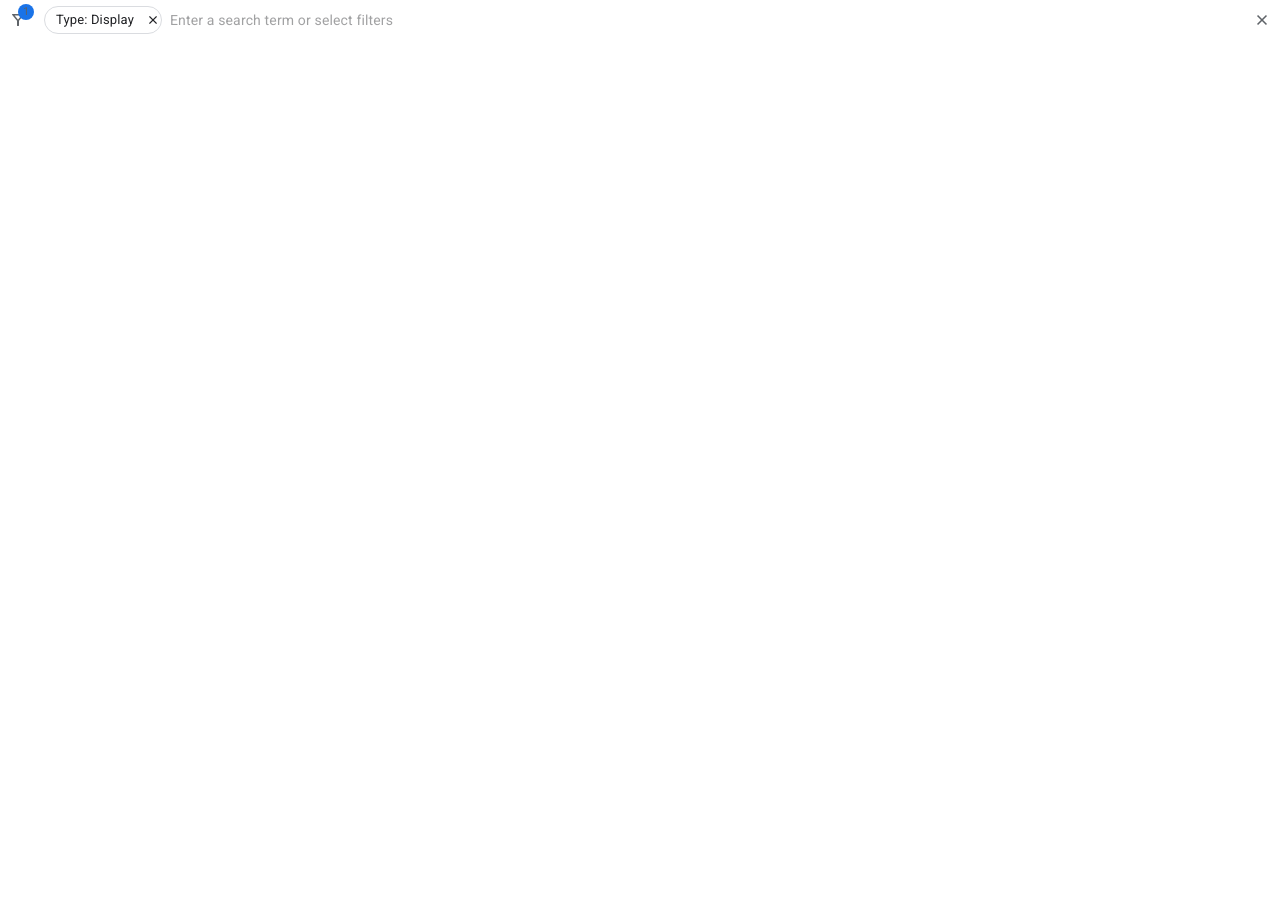
it: DvFilterBar › single-select editor uses radios
The image size is (1280, 900).
Click the button "Type: Display" at (103, 20), box x1=44 y1=6 x2=162 y2=34
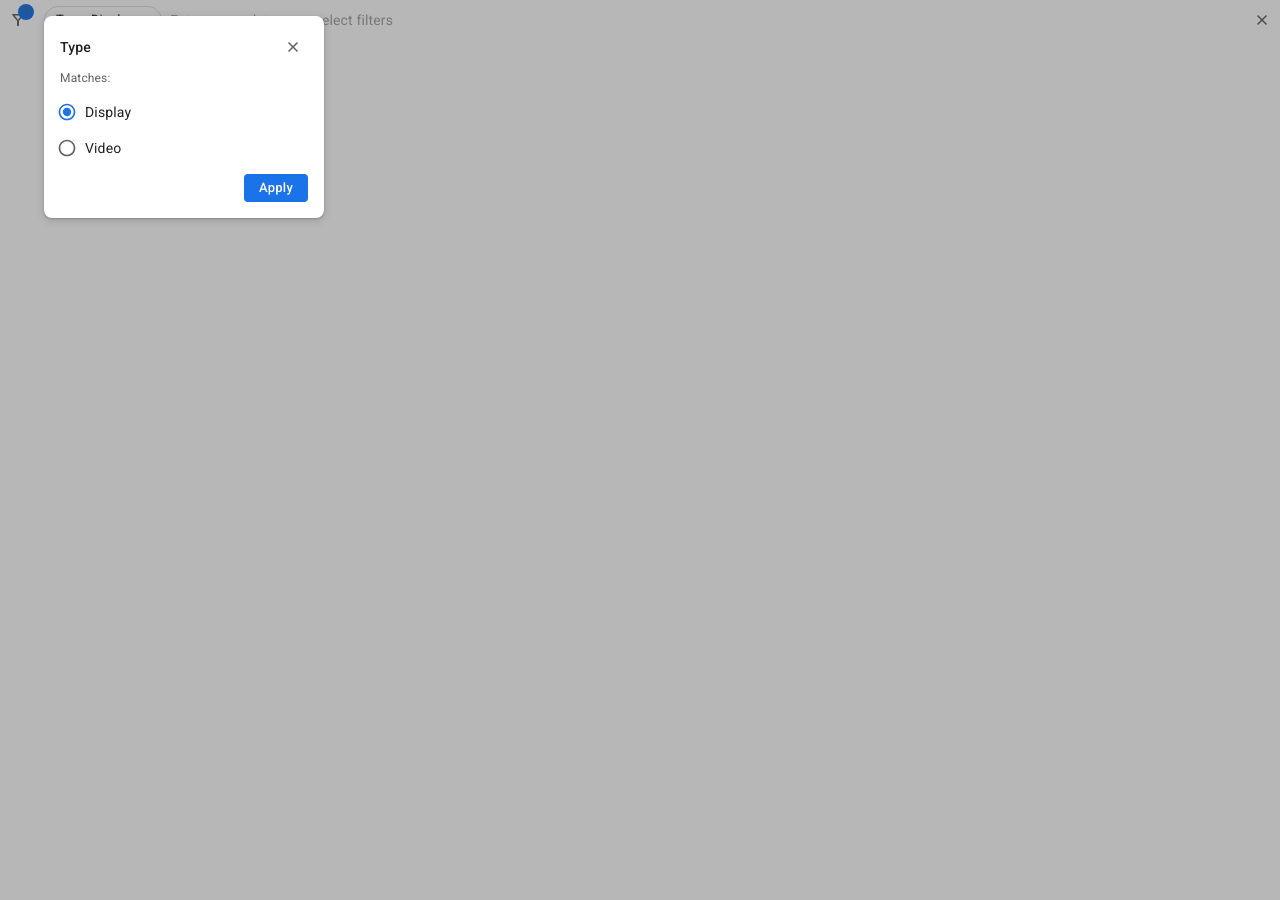
Click the radio button labelled "Video" at (89, 148), box x1=57 y1=138 x2=121 y2=158
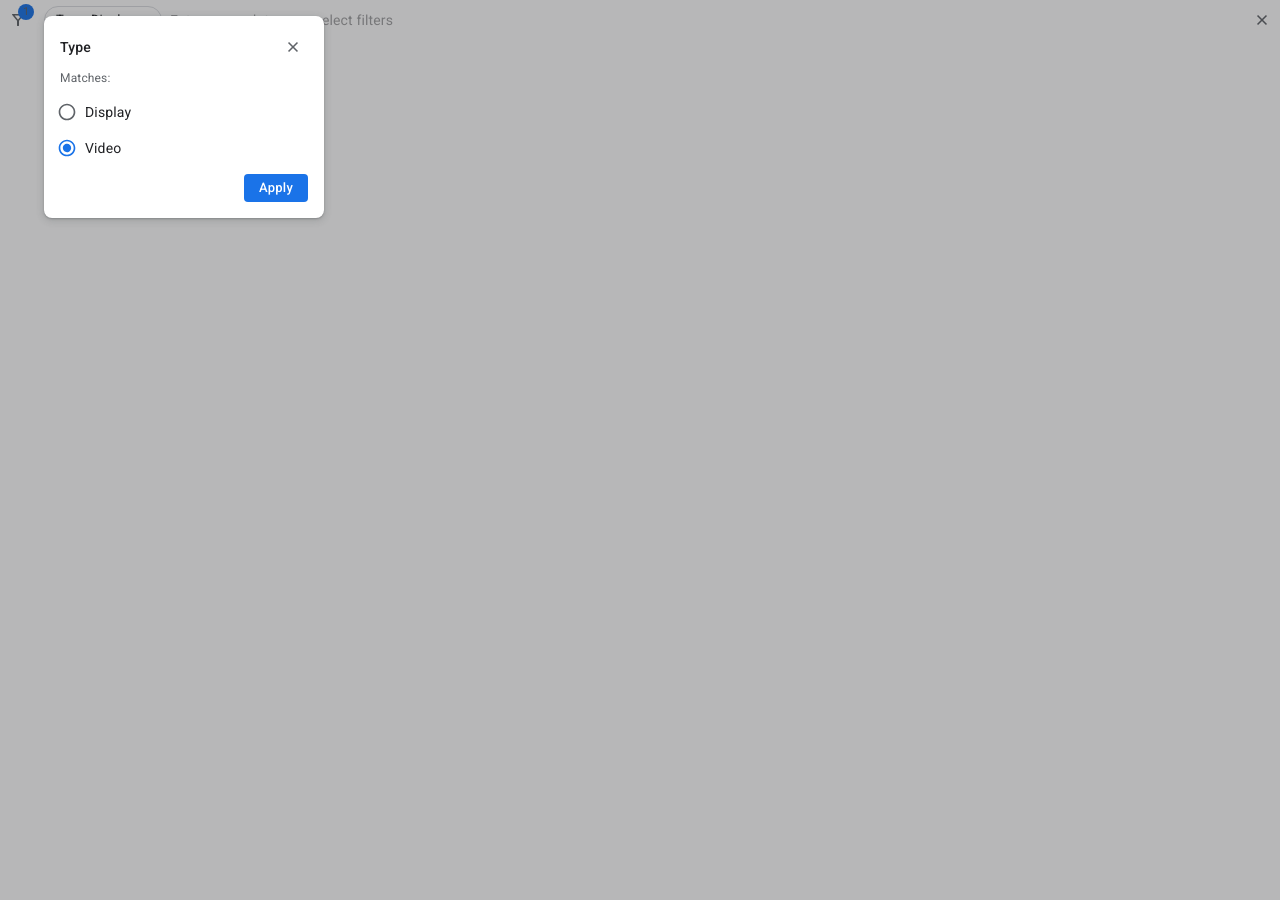
Click the button "Apply" at (276, 188), box x1=244 y1=174 x2=308 y2=202
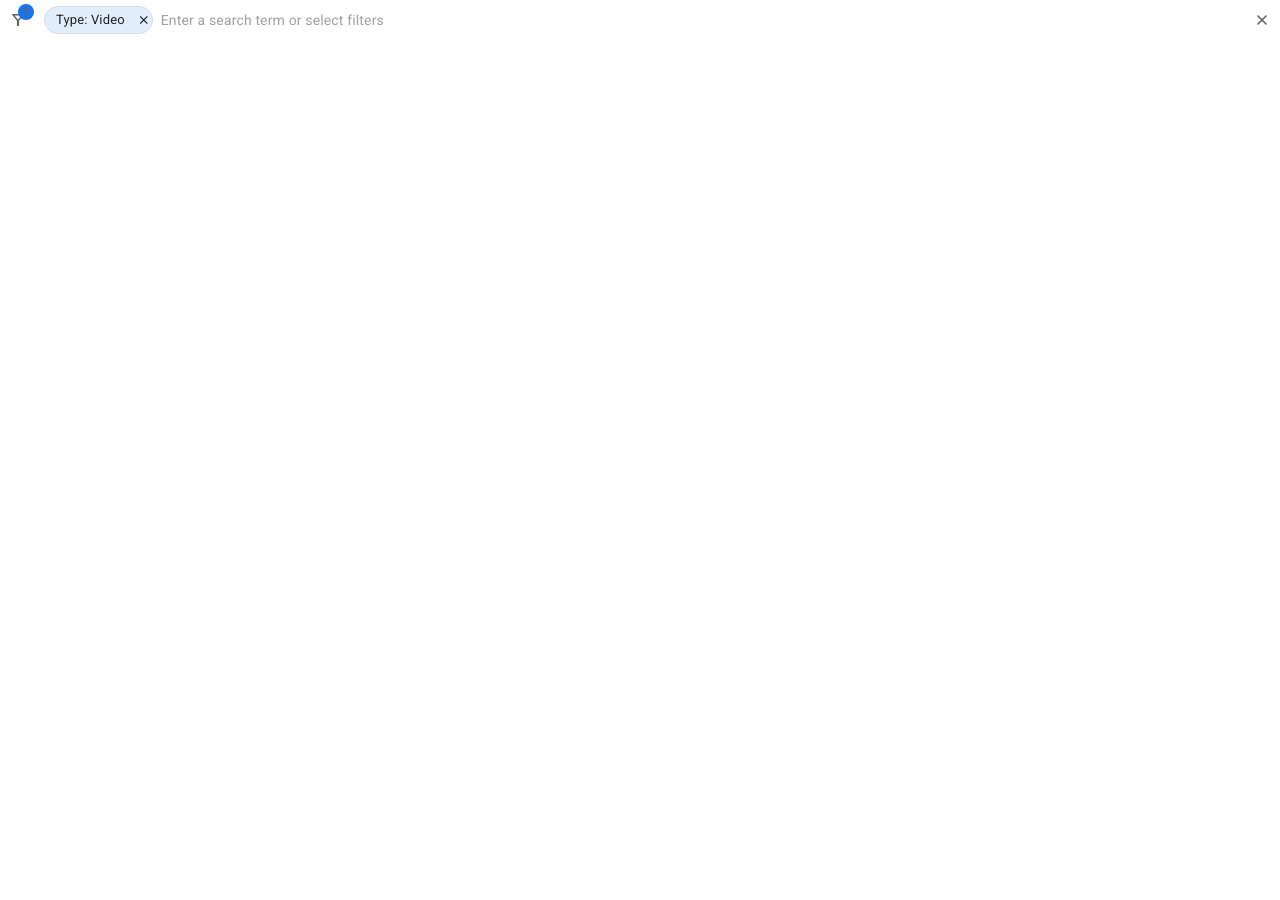
Check: the button "Type: Video" is shown, box x1=44 y1=6 x2=153 y2=34
